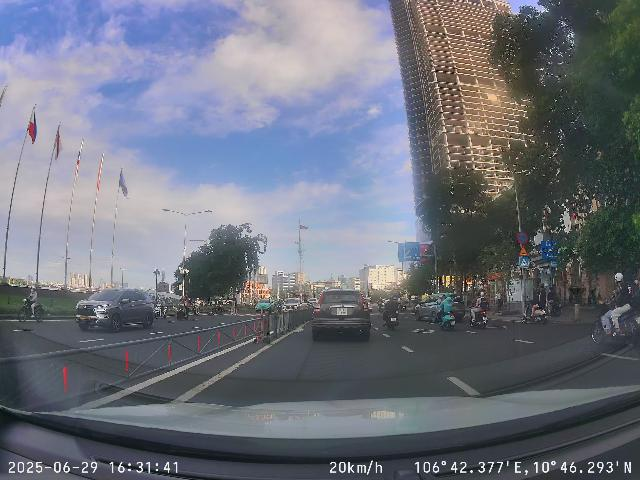130-cam-dung-va-do-xe: (517, 231, 528, 244)
221-duong-go-ghe: (519, 245, 528, 256)
423a-duong-nguoi-di-bo-sang-ngang-1: (519, 257, 529, 268)
